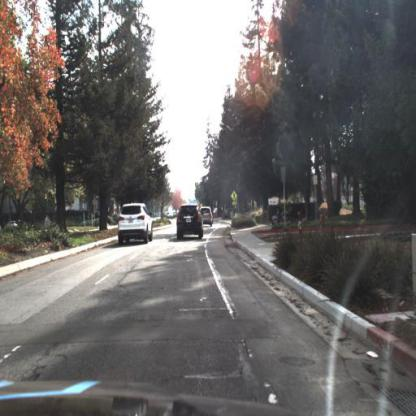car: (117, 203, 155, 247), (176, 204, 204, 242), (198, 205, 215, 230), (200, 207, 213, 228)
